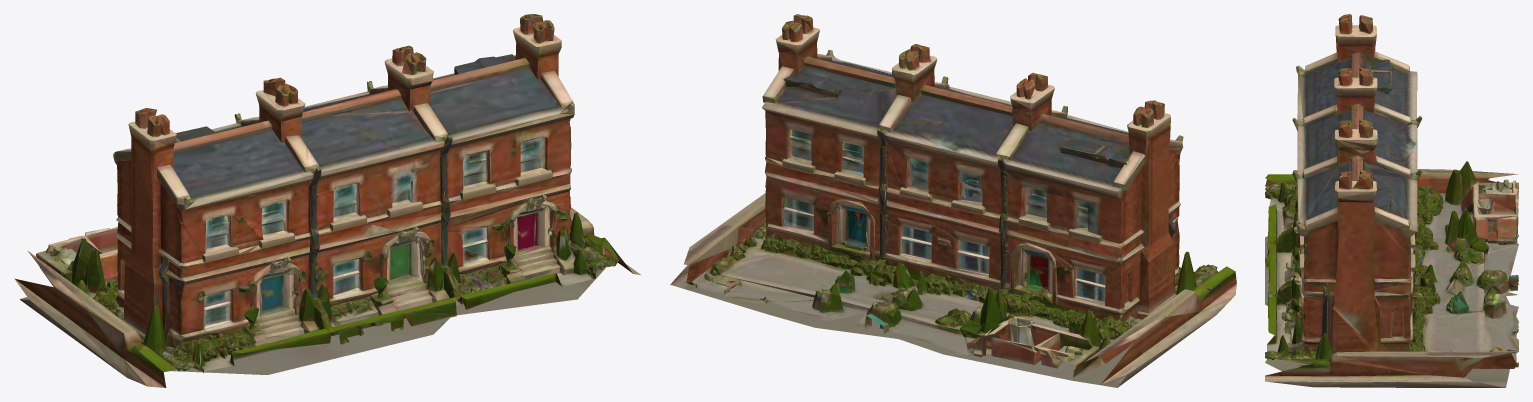
File: terrace_2x1_yard.glb
3 views of the same model, side by side, from view 1: azimuth 30°, elevation 25°; view 2: azimuth 150°, elevation 25°; view 3: azimuth 270°, elevation 25° (orthographic). The views are drawn at different scales.
Parts seen in each view (by area): view 1: normalize; view 2: normalize; view 3: normalize.
Boxes of the visible parts, x1,y1,x2,y2 form: normalize: [14, 14, 640, 387]; normalize: [670, 14, 1236, 387]; normalize: [1265, 14, 1518, 387].
Size of the model in its own units: 1 by 0.4677 by 0.5483.
Materials: 1 (1 with a texture image).
